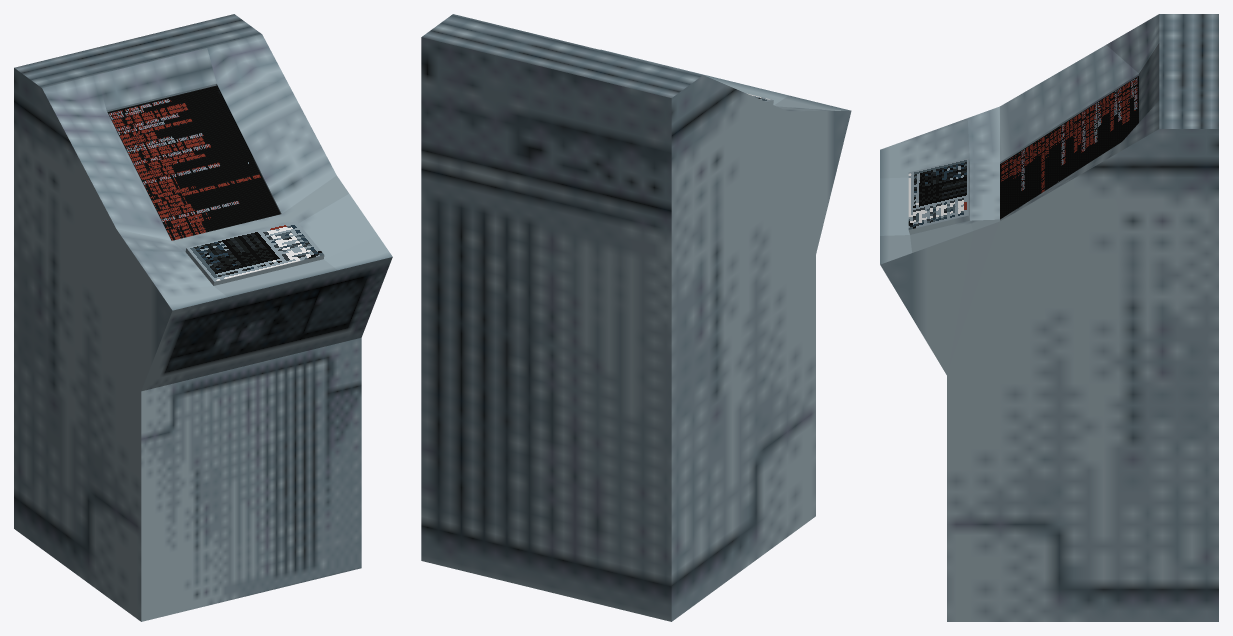
Rendered from Terminal.fbx.
3 renders of one model, left to right at view 1: azimuth 30°, elevation 25°; view 2: azimuth 150°, elevation 25°; view 3: azimuth 270°, elevation 25°, orthographic. The views are drawn at different scales.
Visible parts, largest first — view 1: Terminal; view 2: Terminal; view 3: Terminal.
Part boxes in pixels (bbox=[...]): Terminal: bbox=[14, 14, 392, 621]; Terminal: bbox=[421, 14, 851, 621]; Terminal: bbox=[880, 14, 1218, 621].
Bounding box in the file's own units: 80 × 99.64 × 160.
3 materials, 3 textured.
